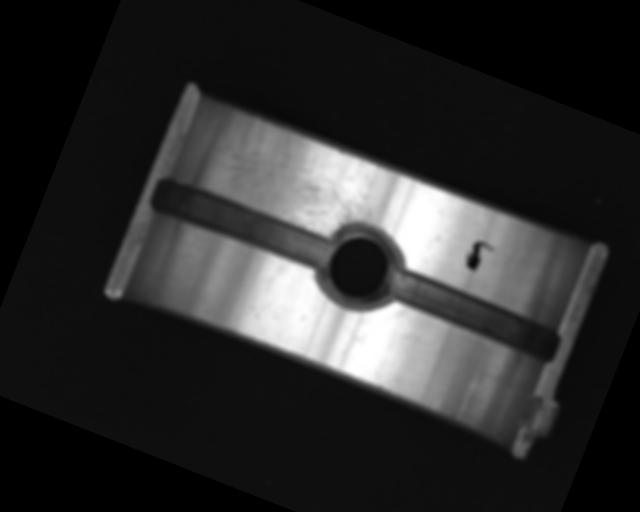blot: (461, 236, 495, 276)
gap: (146, 171, 336, 275), (384, 266, 564, 364)
hole: (310, 214, 413, 316)
nick: (454, 368, 483, 419)
scratch: (197, 107, 397, 253)
